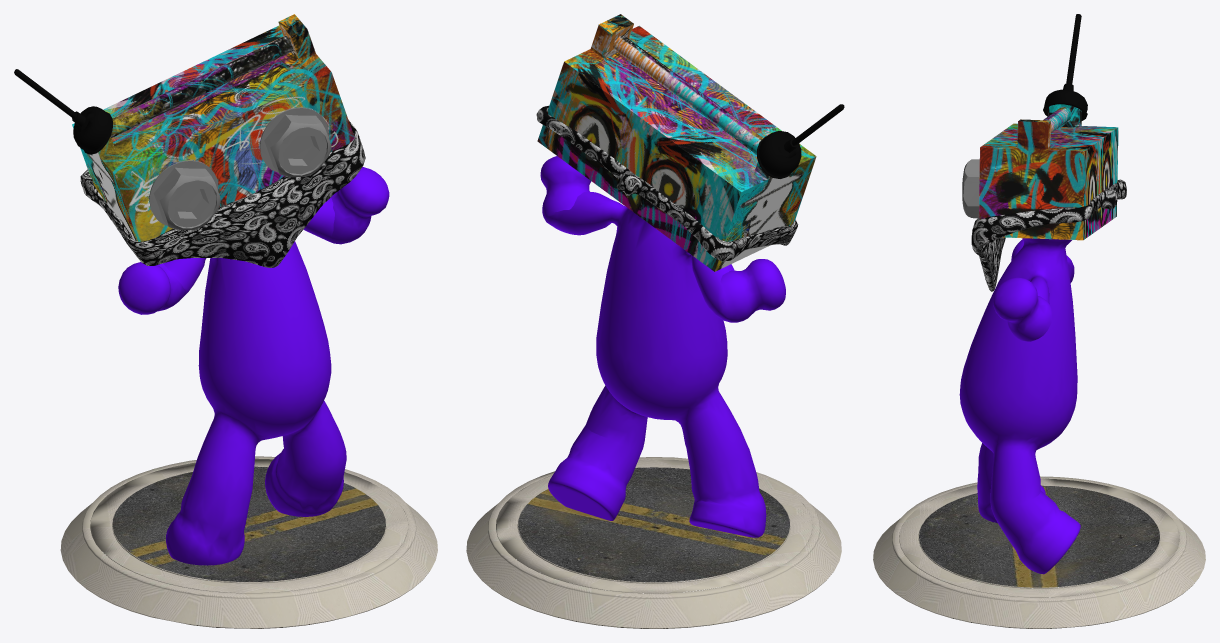
The picture shows the model from 3 angles, left to right: view 1: azimuth 30°, elevation 25°; view 2: azimuth 150°, elevation 25°; view 3: azimuth 270°, elevation 25°; orthographic projection. The views are drawn at different scales.
Visible parts, largest first — view 1: BBody; view 2: BBody; view 3: BBody.
Part boxes in pixels (<box>): BBody: <box>14,14,437,628</box>; BBody: <box>466,14,844,628</box>; BBody: <box>873,14,1205,628</box>.
Size of the model in its own units: 1.66 by 2.2 by 1.45.
Materials: 7 (4 with a texture image).
